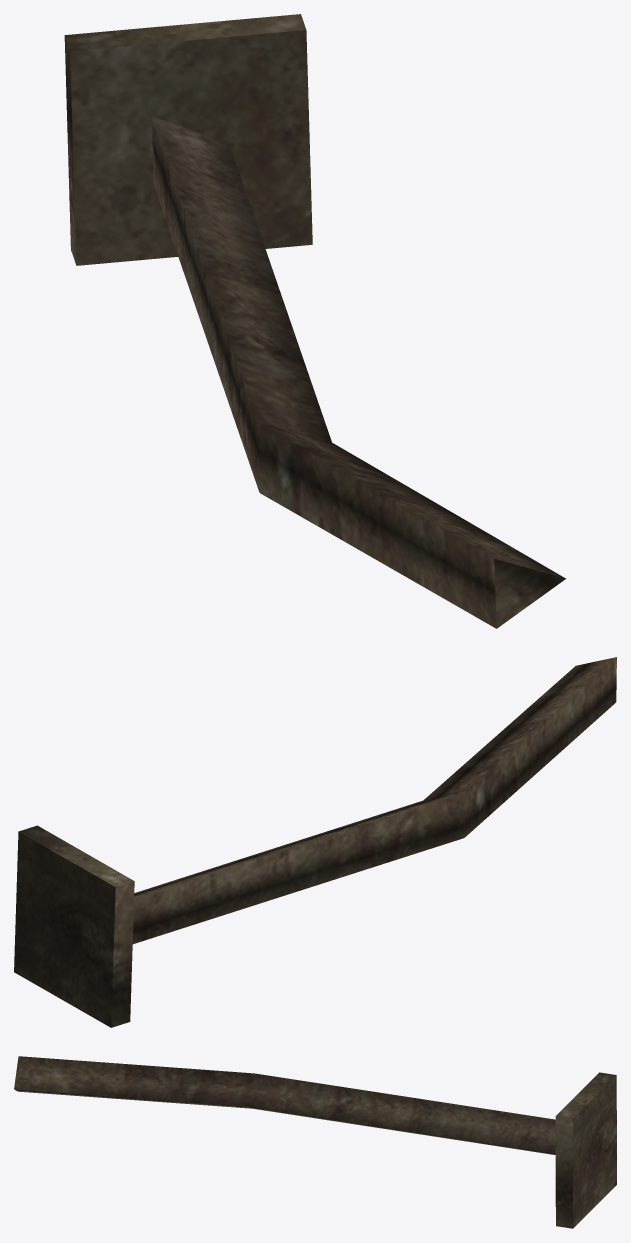
File: TI_Nail_07.fbx
3 renders of one model, top to bottom at view 1: azimuth 30°, elevation 25°; view 2: azimuth 150°, elevation 25°; view 3: azimuth 270°, elevation 25°, orthographic. The views are drawn at different scales.
Visible parts, largest first — view 1: TI_Nail_07; view 2: TI_Nail_07; view 3: TI_Nail_07.
Part boxes in pixels (bbox=[...]): TI_Nail_07: bbox=[64, 14, 565, 628]; TI_Nail_07: bbox=[14, 657, 616, 1027]; TI_Nail_07: bbox=[14, 1056, 616, 1228].
Bounding box in the file's own units: 0.0885 × 0.0512 × 0.2505.
